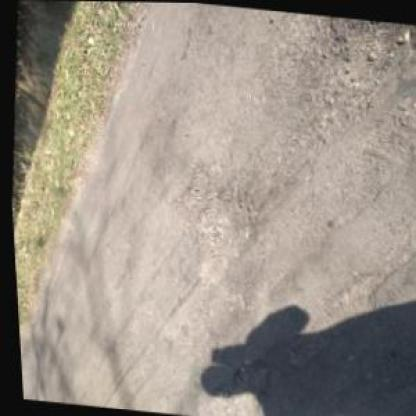pothole: (184, 184, 261, 290), (161, 158, 211, 232)
